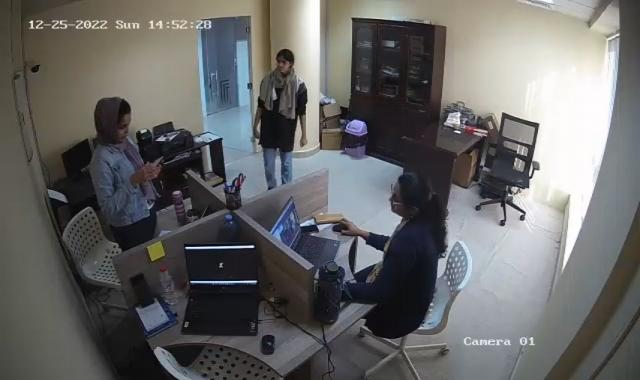no_hairnet: (390, 172, 430, 218), (95, 94, 132, 143), (276, 50, 292, 75)
